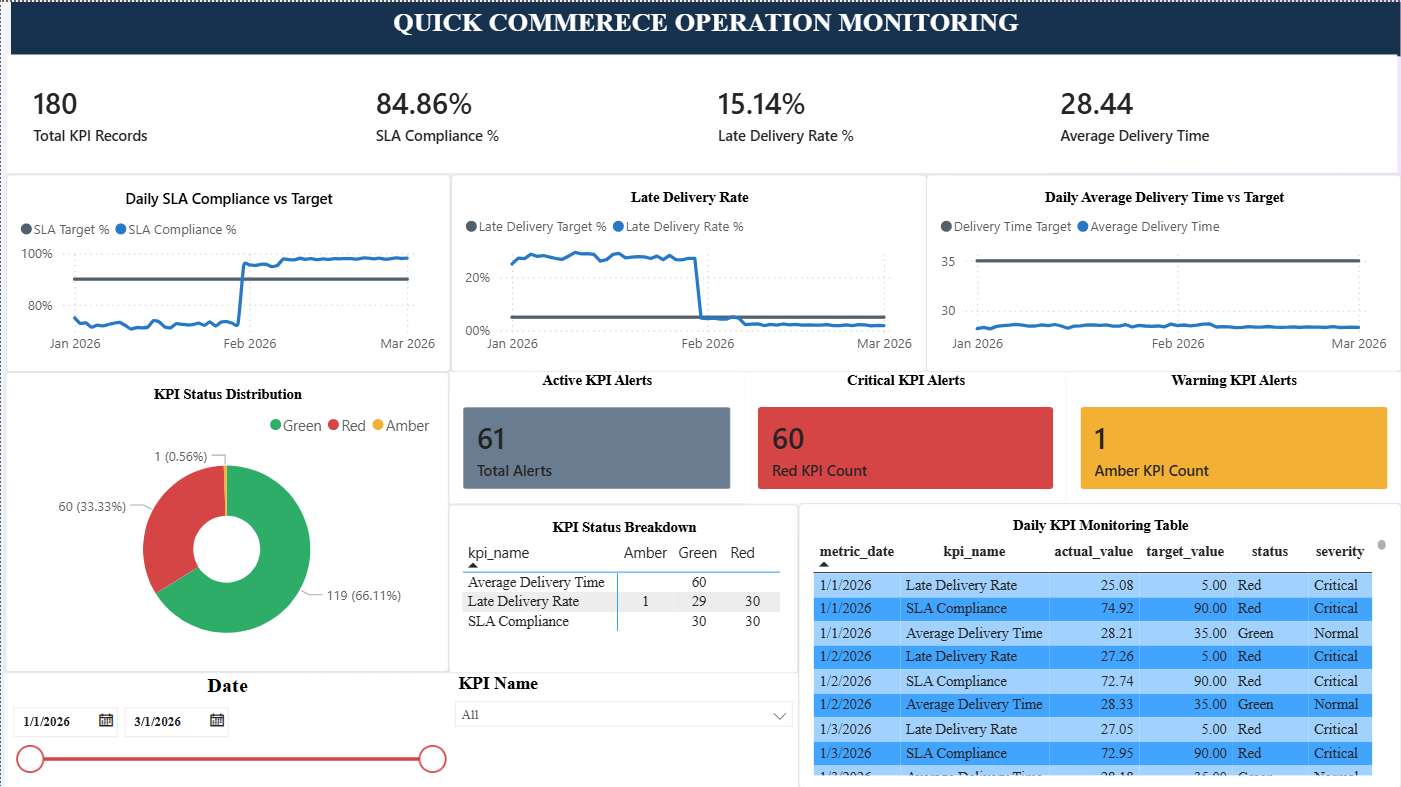

The page's visual inventory and layout, read from the dashboard file:
{"tool":"powerbi","page":{"name":"Page 1","canvas":[1280,720],"ordinal":0},"visuals":[{"type":"textbox","box":[9.5,0,1270.8,49.7],"z":0},{"type":"cardVisual","fields":{"Data":["public vw_kpi_monitoring.Total KPI Records","public vw_kpi_monitoring.SLA Compliance %","public vw_kpi_monitoring.Late Delivery Rate %","public vw_kpi_monitoring.Average Delivery Time"]},"box":[4.7,48.6,1275.5,109],"z":1000},{"type":"lineChart","title":"Daily SLA Compliance vs Target","fields":{"Y":["public vw_kpi_monitoring.SLA Target %","public vw_kpi_monitoring.SLA Compliance %"],"Category":["public vw_kpi_monitoring.metric_date"]},"box":[5,158,406,181],"z":2000},{"type":"lineChart","title":"Late Delivery Rate","fields":{"Category":["public vw_kpi_monitoring.metric_date"],"Y":["public vw_kpi_monitoring.Late Delivery Target %","public vw_kpi_monitoring.Late Delivery Rate %"]},"box":[411,158,435,181],"z":3000},{"type":"lineChart","title":"Daily Average Delivery Time vs Target","fields":{"Category":["public vw_kpi_monitoring.metric_date"],"Y":["public vw_kpi_monitoring.Delivery Time Target","public vw_kpi_monitoring.Average Delivery Time"]},"box":[845.6,157.5,434.6,181.2],"z":4000},{"type":"donutChart","title":"KPI Status Distribution","fields":{"Y":["public vw_kpi_monitoring.Total KPI Records"],"Category":["public vw_kpi_monitoring.status"]},"box":[3.6,338.7,406.2,274.8],"z":5000},{"type":"cardVisual","title":"Active KPI Alerts","fields":{"Data":["public vw_kpi_monitoring.Total Alerts"]},"box":[410.3,338.3,269.7,120],"z":6000},{"type":"cardVisual","title":"Critical KPI Alerts","fields":{"Data":["public vw_kpi_monitoring.Red KPI Count"]},"box":[680,338.3,294.9,120],"z":7000},{"type":"cardVisual","title":"Warning KPI Alerts","fields":{"Data":["public vw_kpi_monitoring.Amber KPI Count"]},"box":[974.9,338.3,305.1,120],"z":8000},{"type":"pivotTable","title":"KPI Status Breakdown","fields":{"Rows":["public vw_kpi_monitoring.kpi_name"],"Columns":["public vw_kpi_monitoring.status"],"Values":["public vw_kpi_monitoring.Total KPI Records"]},"box":[409.2,459.6,320.1,154.3],"z":9000},{"type":"tableEx","title":"Daily KPI Monitoring Table","fields":{"Values":["public vw_kpi_monitoring.metric_date","public vw_kpi_monitoring.kpi_name","public vw_kpi_monitoring.actual_value","public vw_kpi_monitoring.target_value","public vw_kpi_monitoring.status","public vw_kpi_monitoring.severity"]},"box":[729.1,458.3,550.9,261.7],"z":10000},{"type":"actionButton","box":[57.1,8,100.6,40],"z":11000},{"type":"slicer","title":"Date","fields":{"Values":["public vw_kpi_monitoring.metric_date"]},"box":[3.6,613.5,407.4,106.6],"z":12000},{"type":"slicer","fields":{"Values":["public vw_kpi_monitoring.kpi_name"]},"box":[409.8,613.5,318.6,106.6],"z":13000}]}

Visuals, with their boxes in screenshot pixels (x1, y1, x2, y2), scaled from the page's 1280x720 canvas onto the 1401x787 screenshot:
textbox: x1=10, y1=0, x2=1400, y2=54
cardVisual - public vw_kpi_monitoring.Total KPI Records x public vw_kpi_monitoring.SLA Compliance %: x1=5, y1=53, x2=1400, y2=172
"Daily SLA Compliance vs Target" lineChart: x1=5, y1=173, x2=450, y2=371
"Late Delivery Rate" lineChart: x1=450, y1=173, x2=926, y2=371
"Daily Average Delivery Time vs Target" lineChart: x1=926, y1=172, x2=1400, y2=370
"KPI Status Distribution" donutChart: x1=4, y1=370, x2=449, y2=671
"Active KPI Alerts" cardVisual: x1=449, y1=370, x2=744, y2=501
"Critical KPI Alerts" cardVisual: x1=744, y1=370, x2=1067, y2=501
"Warning KPI Alerts" cardVisual: x1=1067, y1=370, x2=1400, y2=501
"KPI Status Breakdown" pivotTable: x1=448, y1=502, x2=798, y2=671
"Daily KPI Monitoring Table" tableEx: x1=798, y1=501, x2=1400, y2=786
actionButton: x1=62, y1=9, x2=173, y2=52
"Date" slicer: x1=4, y1=671, x2=450, y2=786
slicer - public vw_kpi_monitoring.kpi_name: x1=449, y1=671, x2=797, y2=786
